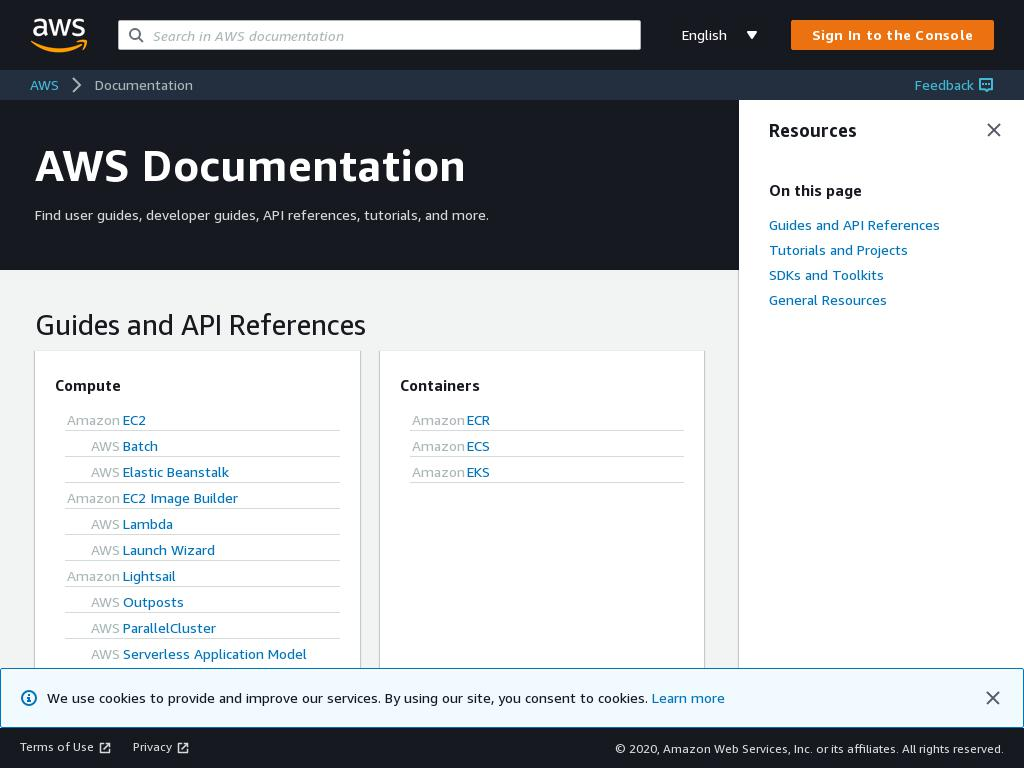button: (65, 644, 340, 684), (790, 20, 994, 50), (65, 410, 340, 430), (65, 436, 340, 456), (65, 462, 340, 482), (65, 488, 340, 508), (65, 514, 340, 534), (65, 540, 340, 560), (65, 566, 340, 586), (65, 592, 340, 612), (65, 618, 340, 638), (65, 690, 340, 710), (409, 410, 684, 430), (409, 436, 684, 456), (409, 462, 684, 482), (670, 20, 771, 50), (30, 17, 88, 53), (95, 75, 193, 95), (30, 75, 59, 95)
field: (118, 20, 641, 50)
heading: (35, 305, 704, 345), (35, 138, 466, 191), (55, 375, 340, 395), (399, 375, 684, 395), (769, 120, 994, 140), (769, 180, 994, 200)
image: (30, 17, 88, 53)
link: (652, 689, 725, 706)
text: (35, 200, 704, 230), (47, 689, 652, 706), (122, 644, 340, 684), (615, 740, 1004, 756), (122, 690, 336, 710), (769, 216, 940, 233), (811, 26, 974, 43), (769, 241, 908, 258), (122, 488, 238, 508), (65, 644, 123, 684), (122, 462, 229, 482), (769, 291, 887, 308), (769, 266, 884, 283), (122, 618, 216, 638), (122, 540, 215, 560), (95, 76, 193, 93), (122, 592, 184, 612), (20, 739, 94, 755), (65, 410, 123, 430), (65, 436, 123, 456), (65, 462, 123, 482), (65, 488, 123, 508), (65, 514, 123, 534), (65, 540, 123, 560), (65, 566, 123, 586), (65, 592, 123, 612), (65, 618, 123, 638), (65, 690, 123, 710), (409, 410, 467, 430), (409, 436, 467, 456), (409, 462, 467, 482), (122, 566, 176, 586), (122, 514, 173, 534), (915, 76, 974, 93), (681, 25, 727, 45), (122, 436, 158, 456), (133, 739, 172, 755), (30, 76, 59, 93), (122, 410, 146, 430), (467, 410, 490, 430), (467, 436, 490, 456), (467, 462, 490, 482)
